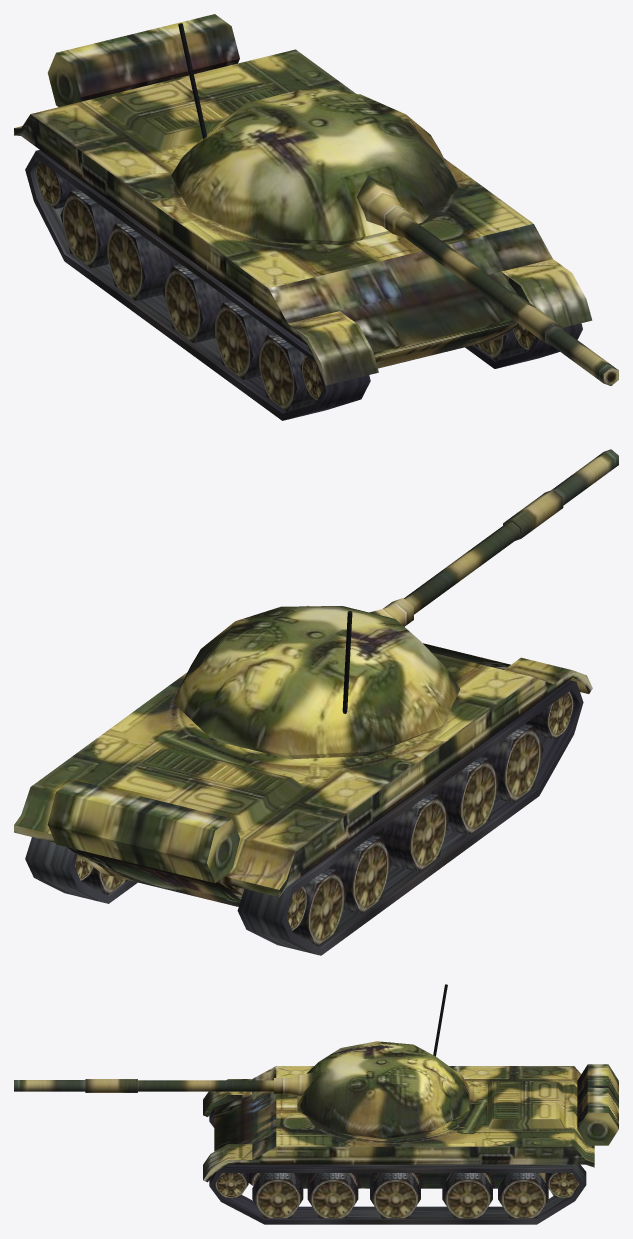
The model's file is MilitaryVehicle6.fbx.
The picture shows the model from 3 angles, top to bottom: view 1: azimuth 30°, elevation 25°; view 2: azimuth 150°, elevation 25°; view 3: azimuth 270°, elevation 25°; orthographic projection. The views are drawn at different scales.
Parts seen in each view (by area): view 1: MilitaryVehicle6, MilitaryVehicle6Gun; view 2: MilitaryVehicle6, MilitaryVehicle6Gun; view 3: MilitaryVehicle6, MilitaryVehicle6Gun.
Boxes of the visible parts, x1,y1,x2,y2 form: MilitaryVehicle6: [14, 14, 592, 420]; MilitaryVehicle6Gun: [171, 23, 618, 385]; MilitaryVehicle6: [14, 605, 592, 955]; MilitaryVehicle6Gun: [173, 449, 618, 759]; MilitaryVehicle6: [203, 1064, 618, 1224]; MilitaryVehicle6Gun: [14, 984, 469, 1138].
Size of the model in its own units: 260 by 262 by 822.
